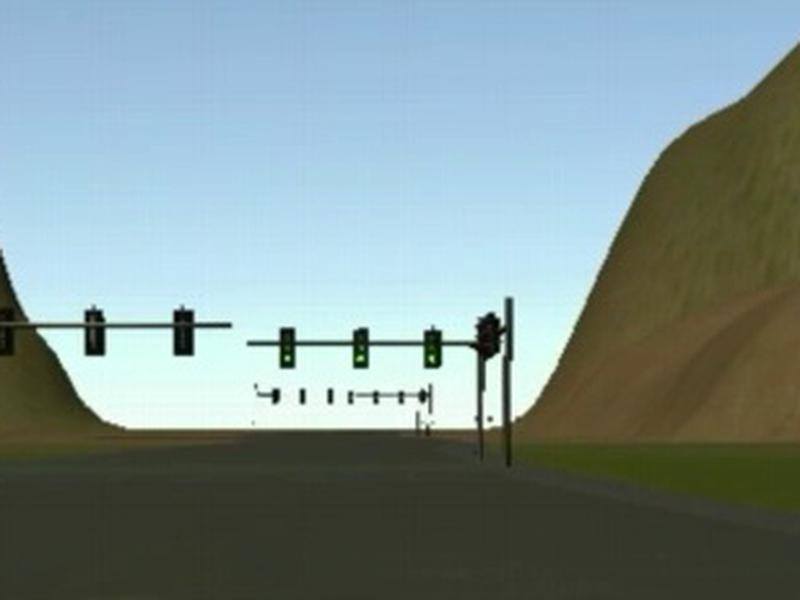Green: (352, 329, 369, 368), (424, 331, 442, 367), (279, 328, 295, 368)
